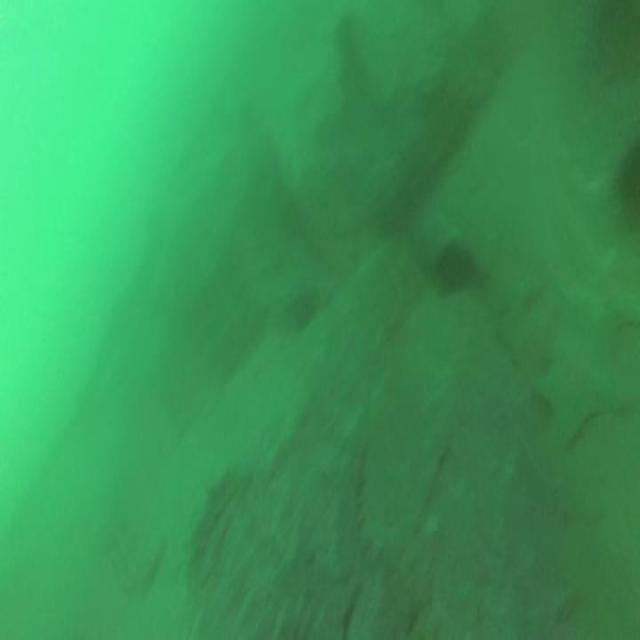echinus: (430, 229, 478, 299)
holothurian: (188, 463, 242, 575)
starfish: (530, 309, 640, 458)
